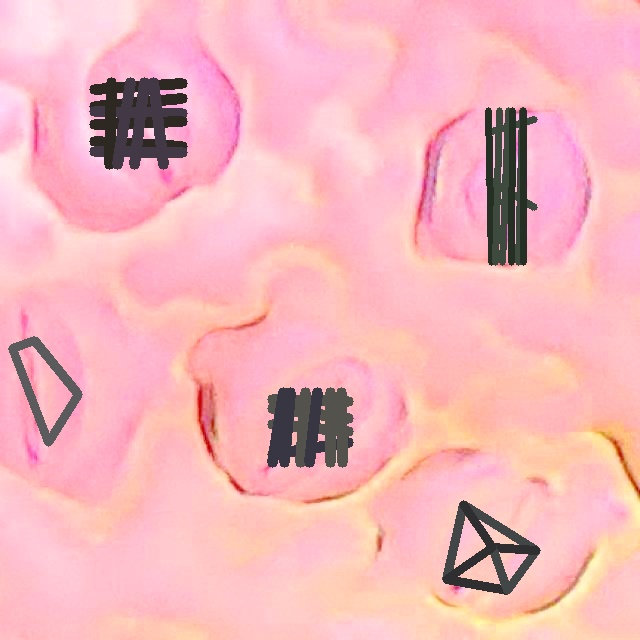close: (443, 501, 540, 593), (90, 78, 187, 168), (267, 387, 352, 467)
open: (485, 108, 537, 264), (8, 336, 81, 445)
